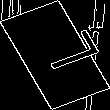L_SW: (18, 30, 92, 80)
